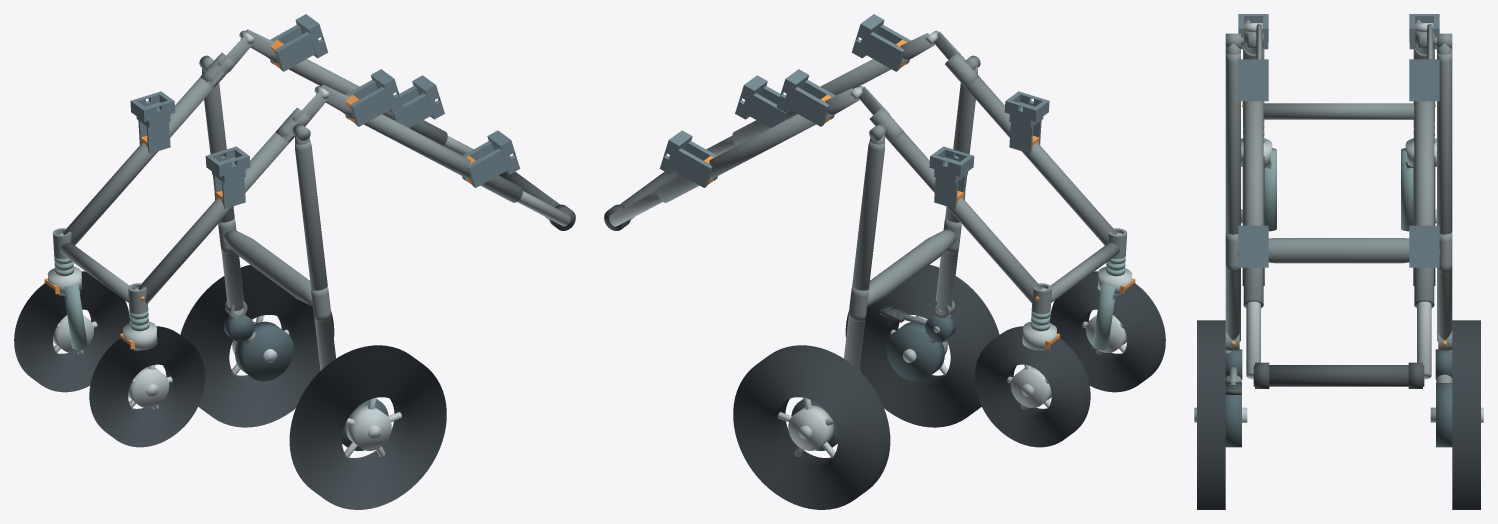
The model's file is w380_state2_wheel_M.glb.
The picture shows the model from 3 angles, left to right: view 1: azimuth 30°, elevation 25°; view 2: azimuth 150°, elevation 25°; view 3: azimuth 270°, elevation 25°; orthographic projection. The views are drawn at different scales.
Visible parts, largest first — view 1: RL_tire.012, RR_tire.012, FL_tire.012, FR_tire.012, V46_rear_leg_-1.001, main_lower_1.002, main_lower_-1.002, main_upper_-1.002, RR_brake_backplate.012, V46_rearbar.001, V46_rear_leg_1.001, Universal_Cabin_Receiver_L_1 (+15 smaller); view 2: RR_tire.012, RL_tire.012, FR_tire.012, FL_tire.012, V46_rear_leg_1.001, main_lower_-1.002, main_lower_1.002, main_upper_1.002, RL_brake_backplate.012, V46_rearbar.001, V46_rear_leg_-1.001, Universal_Cabin_Receiver_L_-1 (+15 smaller); view 3: RL_tire.012, RR_tire.012, V46_rear_leg_1.001, V46_rear_leg_-1.001, V46_rearbar.001, main_upper_1.002, main_upper_-1.002, round_handle.011, front_fixed_round_tube.009, Universal_Cabin_Receiver_H_1, Universal_Cabin_Receiver_M_1, Universal_Cabin_Receiver_H_-1 (+17 smaller).
Part boxes in pixels (bbox=[...]): RL_tire.012: bbox=[289, 345, 446, 509]; RR_tire.012: bbox=[180, 264, 334, 427]; FL_tire.012: bbox=[89, 326, 205, 447]; FR_tire.012: bbox=[14, 271, 129, 392]; V46_rear_leg_-1.001: bbox=[295, 140, 335, 370]; main_lower_1.002: bbox=[63, 71, 224, 245]; main_lower_-1.002: bbox=[138, 132, 293, 303]; main_upper_-1.002: bbox=[348, 114, 522, 202]; RR_brake_backplate.012: bbox=[235, 321, 293, 381]; V46_rearbar.001: bbox=[223, 229, 312, 306]; V46_rear_leg_1.001: bbox=[204, 83, 244, 311]; Universal_Cabin_Receiver_L_1: bbox=[130, 91, 175, 153]; RR_tire.012: bbox=[733, 345, 890, 509]; RL_tire.012: bbox=[845, 264, 999, 427]; FR_tire.012: bbox=[974, 326, 1090, 447]; FL_tire.012: bbox=[1050, 271, 1165, 392]; V46_rear_leg_1.001: bbox=[844, 140, 884, 370]; main_lower_-1.002: bbox=[955, 71, 1116, 245]; main_lower_1.002: bbox=[886, 132, 1041, 303]; main_upper_1.002: bbox=[657, 114, 831, 202]; RL_brake_backplate.012: bbox=[886, 322, 944, 381]; V46_rearbar.001: bbox=[867, 229, 956, 306]; V46_rear_leg_-1.001: bbox=[935, 83, 975, 311]; Universal_Cabin_Receiver_L_-1: bbox=[1004, 91, 1049, 153]; RL_tire.012: bbox=[1197, 320, 1225, 509]; RR_tire.012: bbox=[1452, 320, 1480, 509]; V46_rear_leg_1.001: bbox=[1437, 52, 1452, 341]; V46_rear_leg_-1.001: bbox=[1225, 52, 1240, 341]; V46_rearbar.001: bbox=[1237, 238, 1440, 263]; main_upper_1.002: bbox=[1414, 101, 1434, 307]; main_upper_-1.002: bbox=[1243, 101, 1263, 307]; round_handle.011: bbox=[1253, 365, 1424, 386]; front_fixed_round_tube.009: bbox=[1263, 103, 1414, 119]; Universal_Cabin_Receiver_H_1: bbox=[1409, 225, 1439, 267]; Universal_Cabin_Receiver_M_1: bbox=[1409, 59, 1439, 101]; Universal_Cabin_Receiver_H_-1: bbox=[1238, 225, 1268, 267].
Size of the model in its own units: 0.9991 by 0.81 by 0.458.
